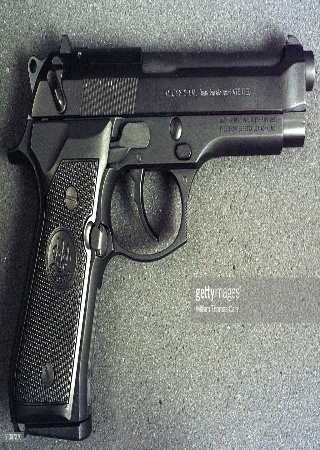handgun: (8, 26, 314, 440)
